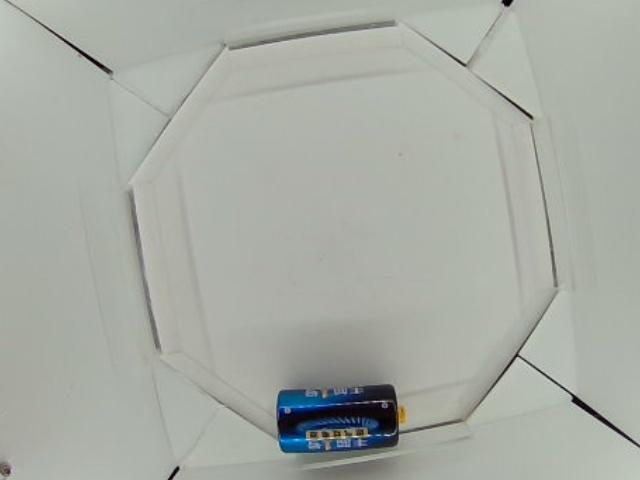Battery: (276, 387, 406, 452)
